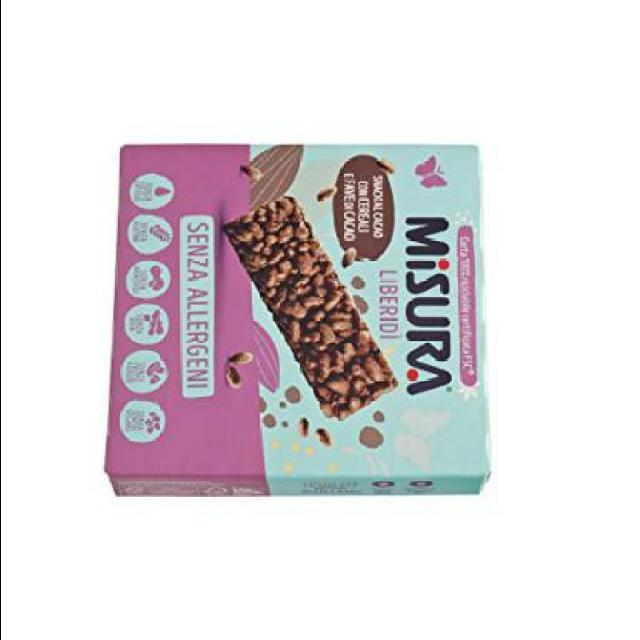Cereal bar: (92, 132, 500, 512)
